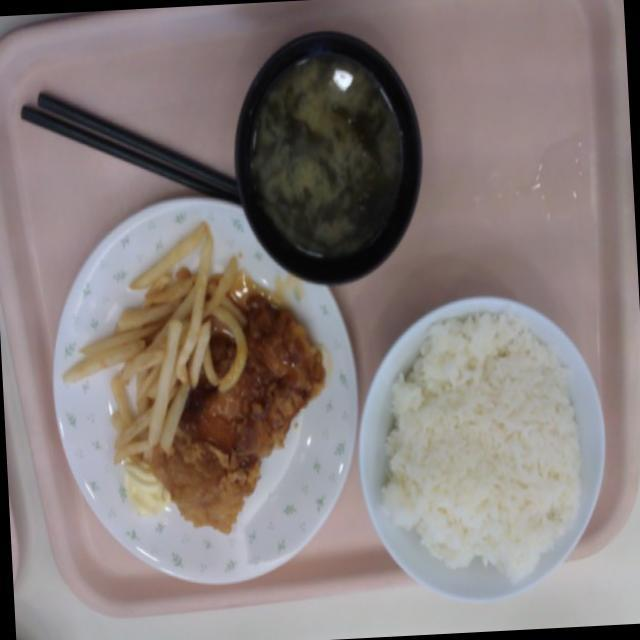Rice: (364, 310, 588, 583)
